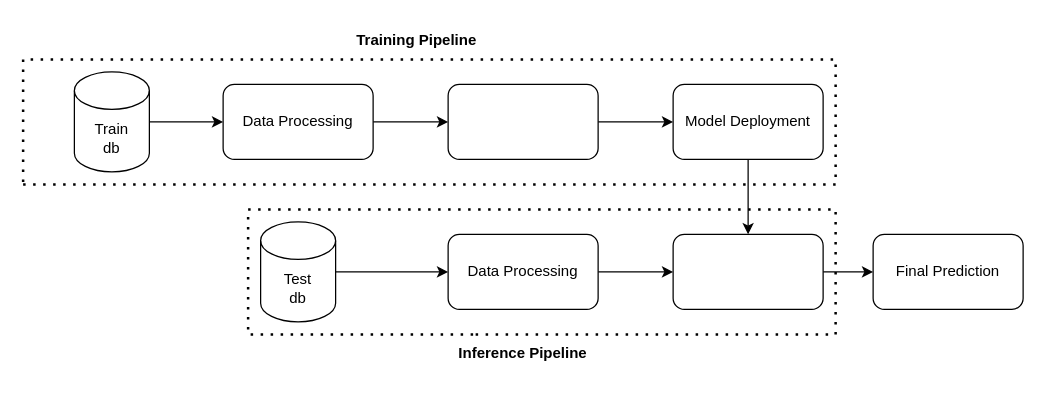
This 1045x393 diagram has some shape labels left out. The centre of each missing label's shape, as x and y in pixels:
"ML Model Build" goes at point 522,121.
"Request to the API" goes at point 747,271.
